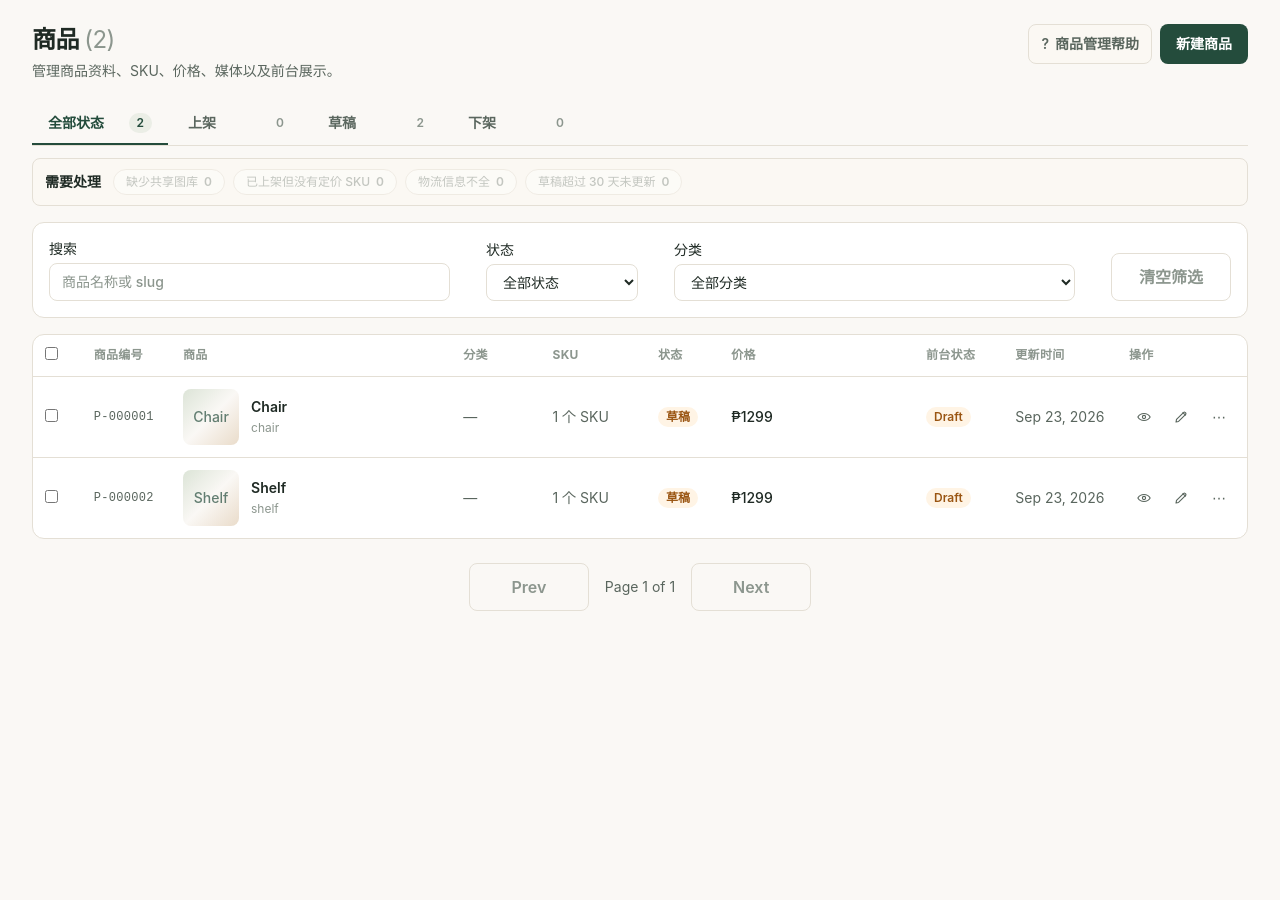
AdminProductsPage bulk delete › clears banners without requiring copy and keeps API failures visible for retry
Click the checkbox named "全选本页".
click(52, 353)  # box [45, 347, 58, 360]
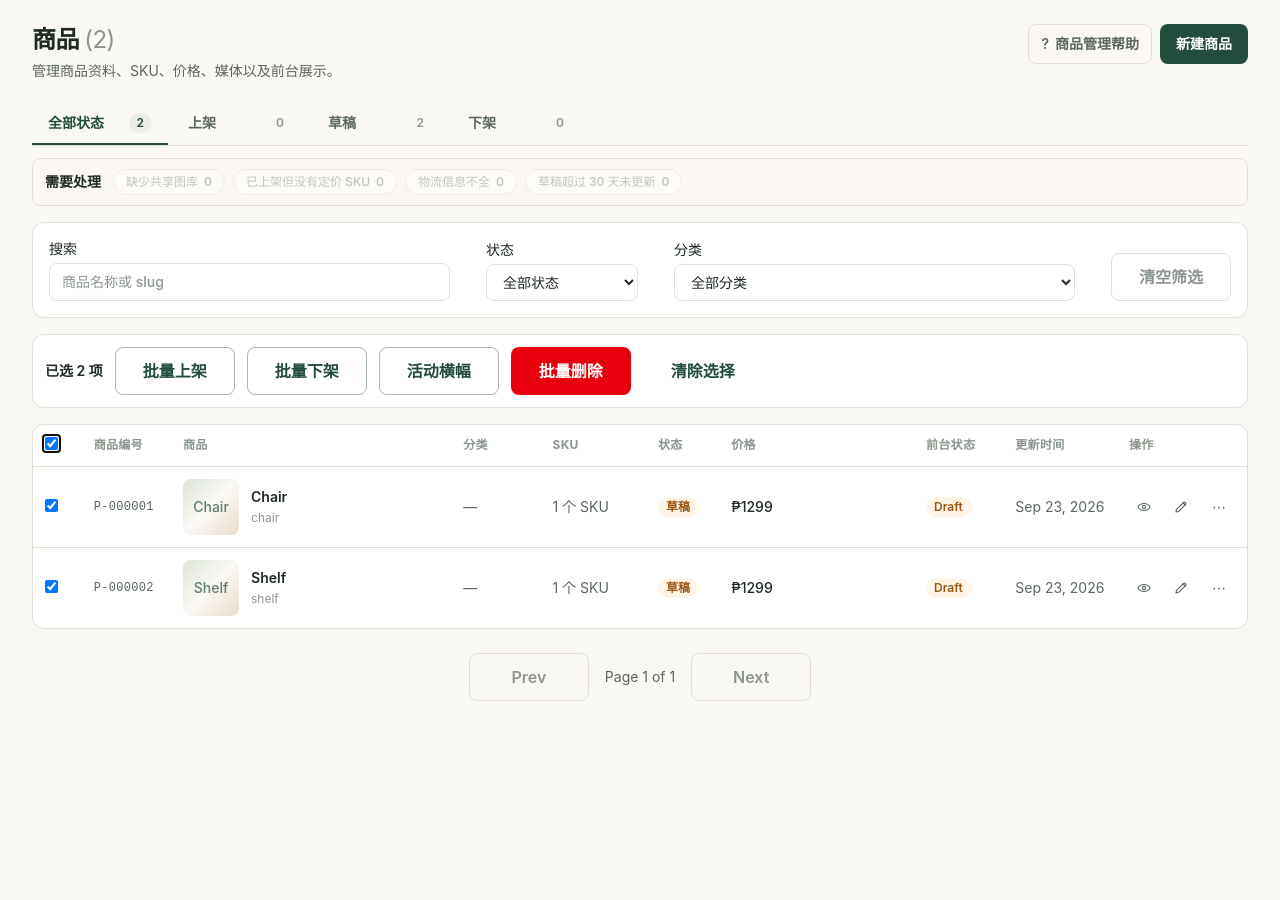
Click the button "活动横幅".
click(439, 371)  # box [379, 347, 499, 395]
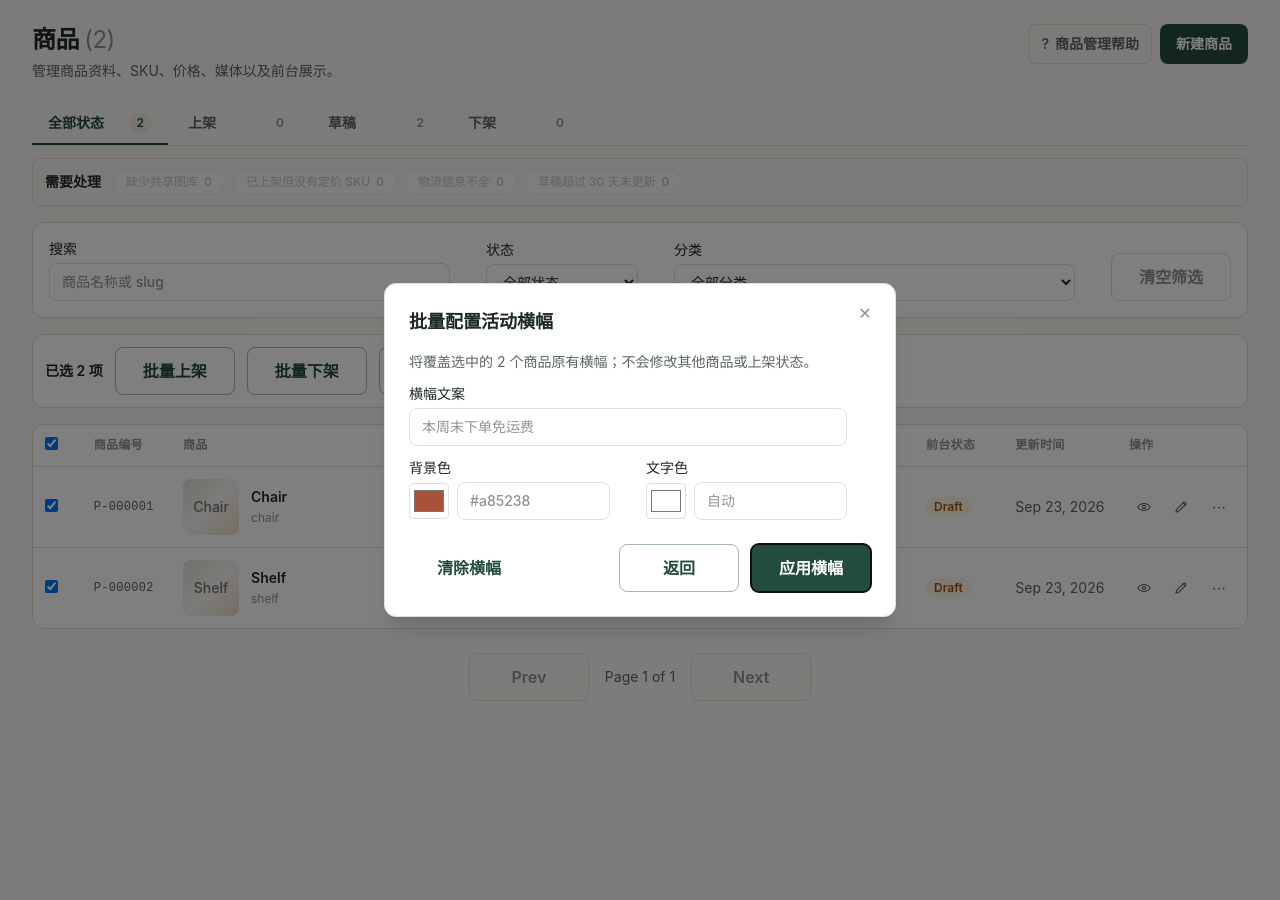
Click the button "清除横幅".
click(469, 568)  # box [409, 544, 529, 592]
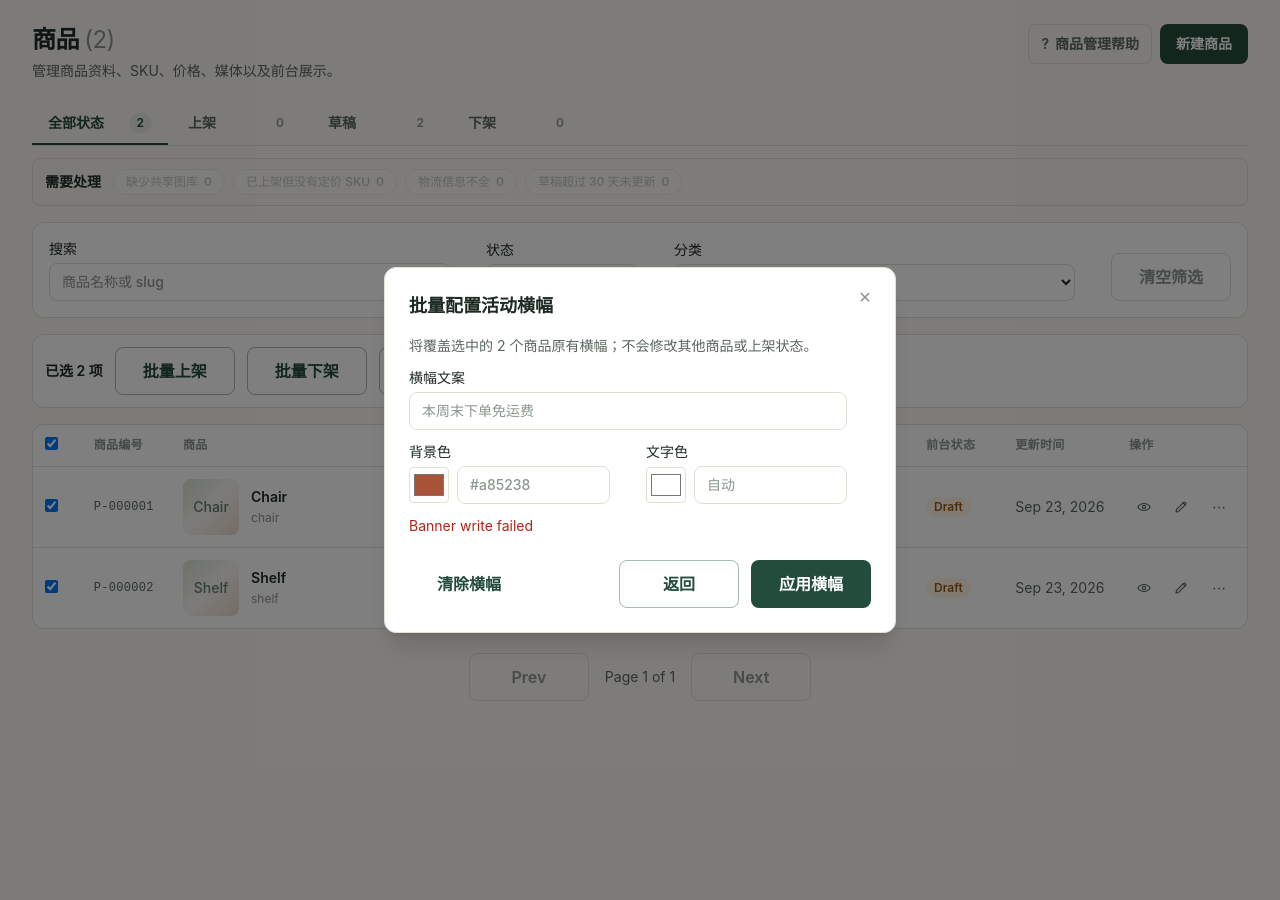
Expected: the message reads "Banner write failed", [409, 517, 533, 534]
Click the button "清除横幅".
click(469, 584)  # box [409, 560, 529, 608]
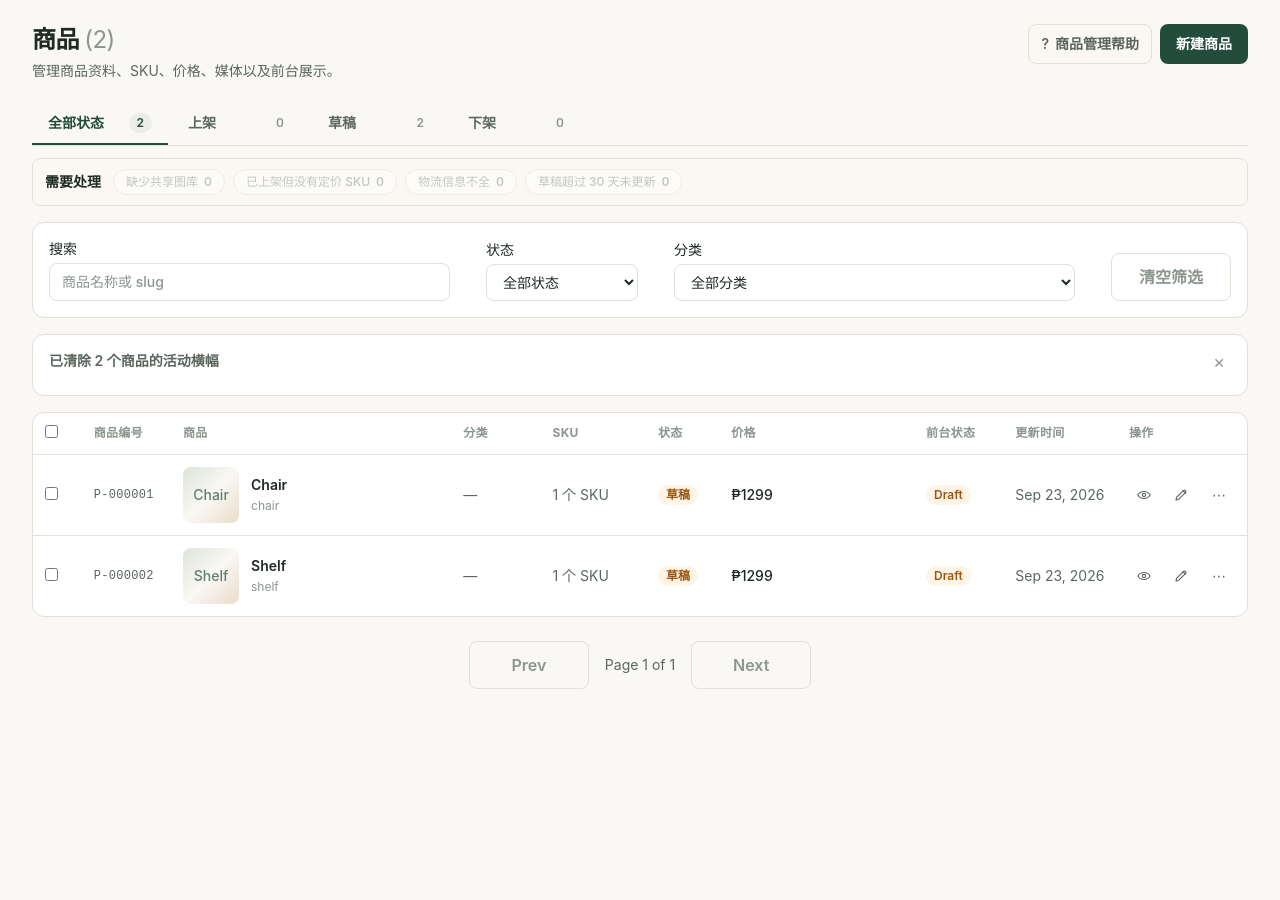
Expected: the text "已清除 2 个商品的活动横幅" is shown, [49, 351, 219, 371]
